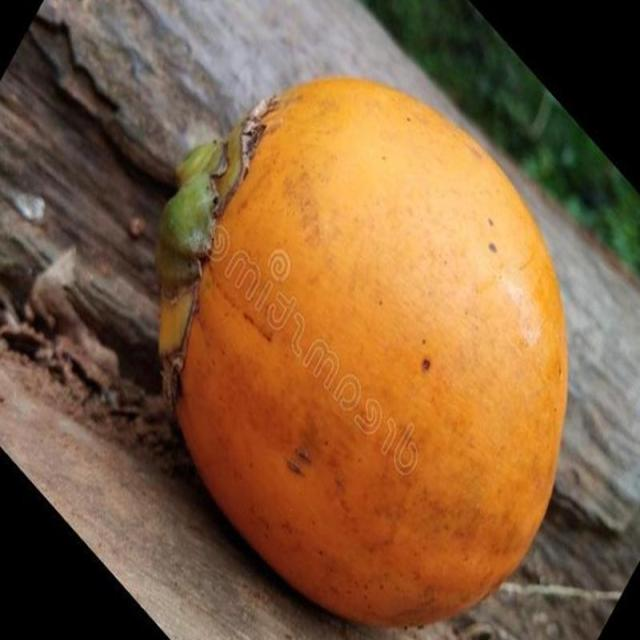good: (155, 78, 570, 631)
